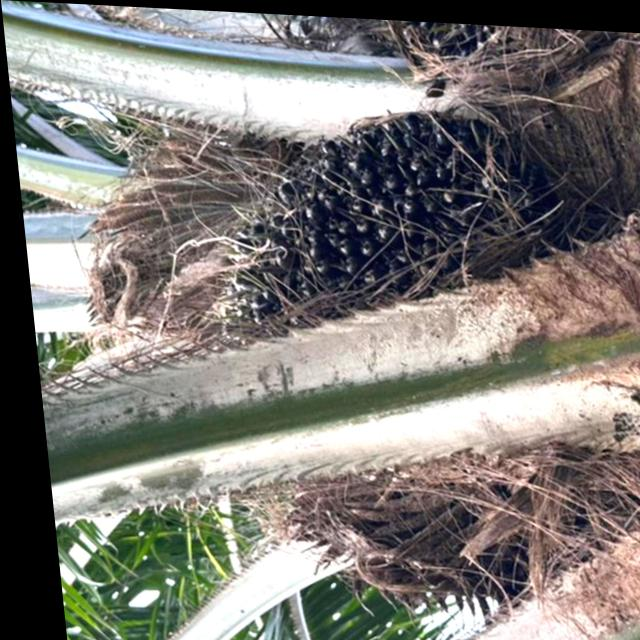unripe: (179, 91, 605, 379)
